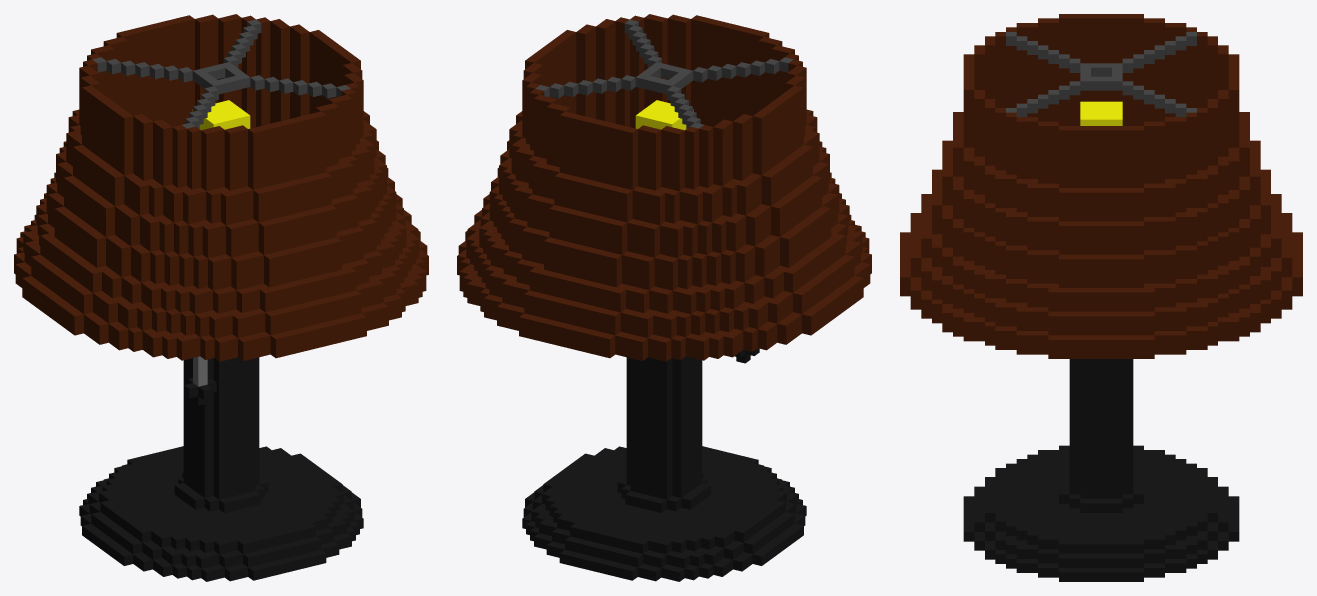
File: Lamp-1.obj
3 views of the same model, side by side, from view 1: azimuth 30°, elevation 25°; view 2: azimuth 150°, elevation 25°; view 3: azimuth 270°, elevation 25° (orthographic).
Parts seen in each view (by area): view 1: Lamp-1; view 2: Lamp-1; view 3: Lamp-1.
Boxes of the visible parts, x1,y1,x2,y2 form: Lamp-1: (14,14,428,581); Lamp-1: (457,14,871,581); Lamp-1: (900,14,1302,581).
Size of the model in its own units: 38 by 47 by 38.
Materials: 1 (1 with a texture image).
